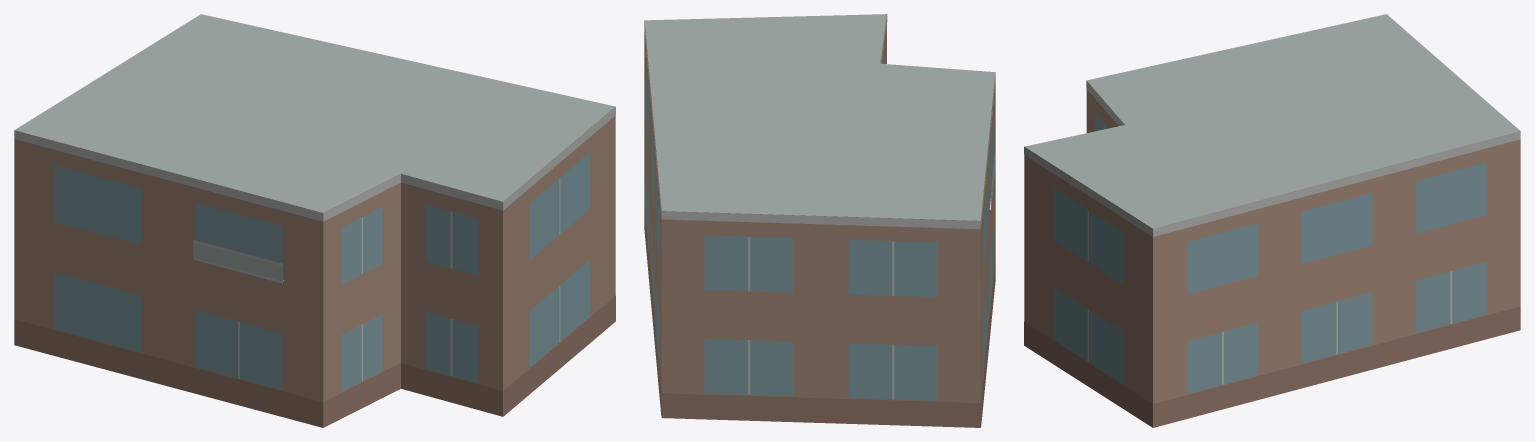
The model's file is survey-upis-32675644.glb.
The picture shows the model from 3 angles, left to right: view 1: azimuth 30°, elevation 25°; view 2: azimuth 150°, elevation 25°; view 3: azimuth 270°, elevation 25°; orthographic projection. The views are drawn at different scales.
Parts seen in each view (by area): view 1: survey-upis-32675644.tmp; view 2: survey-upis-32675644.tmp; view 3: survey-upis-32675644.tmp.
Boxes of the visible parts, x1,y1,x2,y2 form: survey-upis-32675644.tmp: [14, 14, 615, 427]; survey-upis-32675644.tmp: [644, 14, 995, 427]; survey-upis-32675644.tmp: [1024, 14, 1520, 427].
Size of the model in its own units: 12.05 by 5.2 by 11.76.
